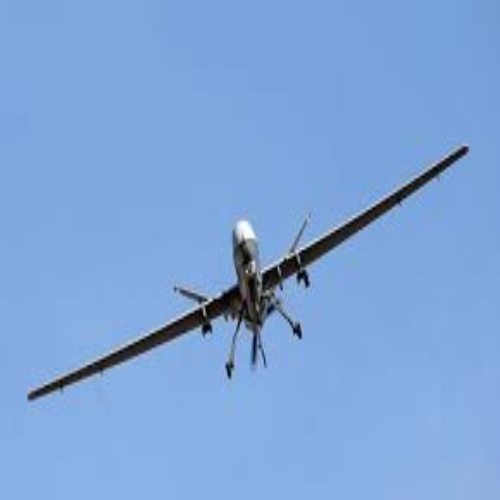uav: (24, 146, 473, 404)
